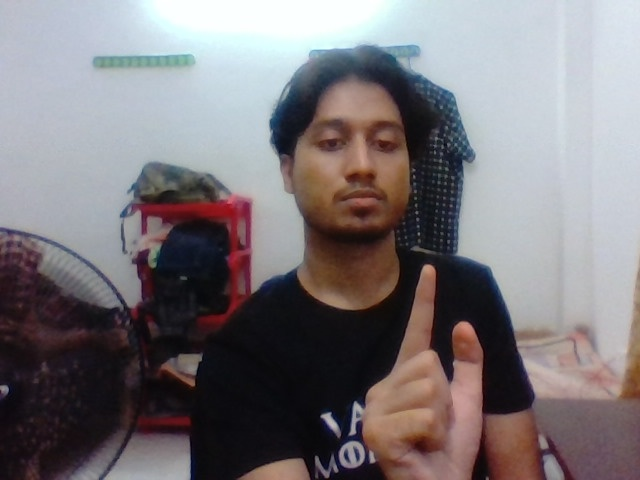J: (349, 237, 502, 470)
